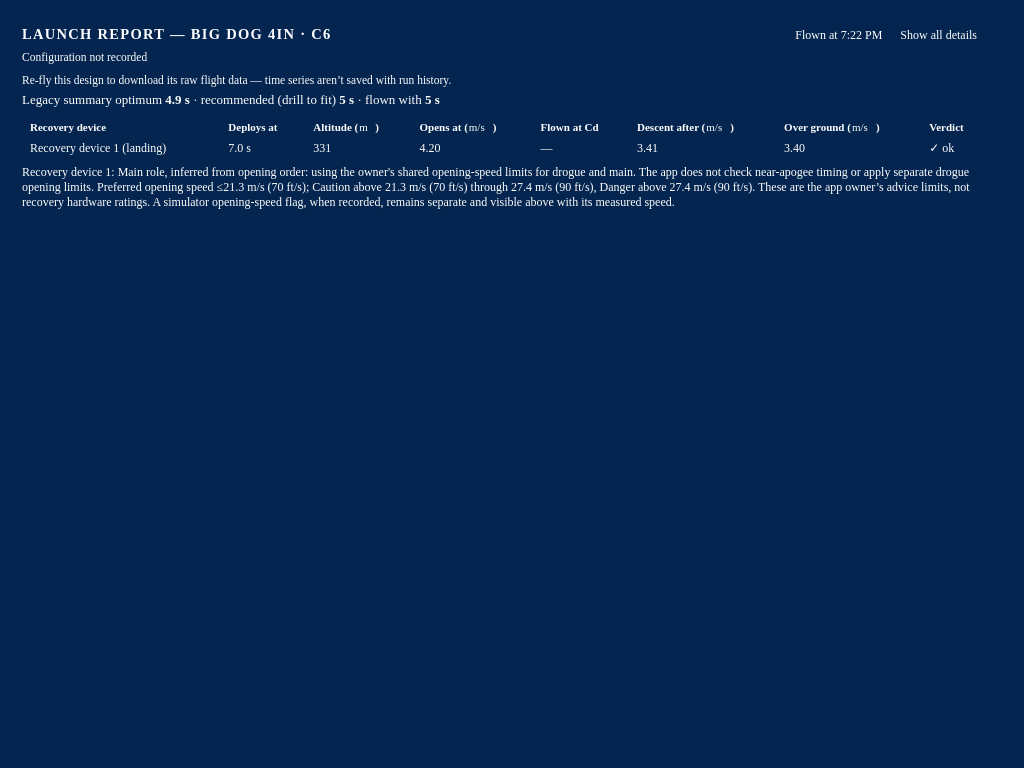
it: does not coerce stored load peaks in the report: true
The width and height of the screenshot is (1024, 768).
Step 1. Click the button "Show all details" → (939, 36), box [890,24,987,47]
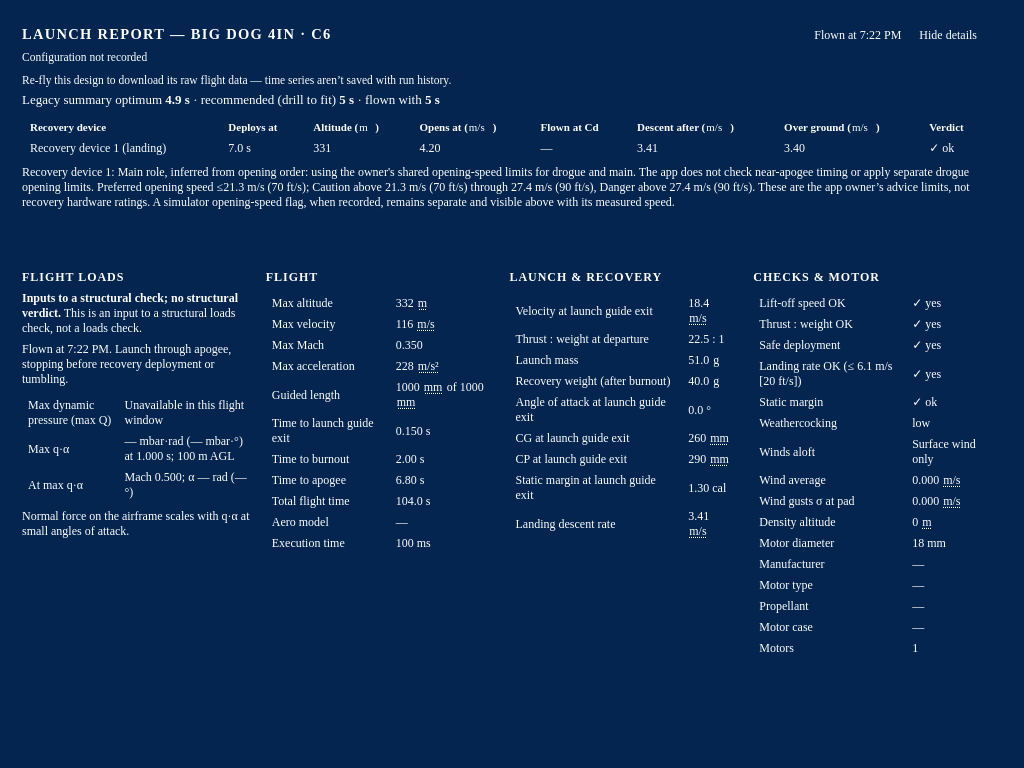
expect the cell "— mbar·rad (— mbar·°) at 1.000 s; 100 m AGL" is shown: met, box [118,431,256,467]
expect the row "At max q·α Mach 0.500; α — rad (—°)" is shown: met, box [22,467,256,503]
